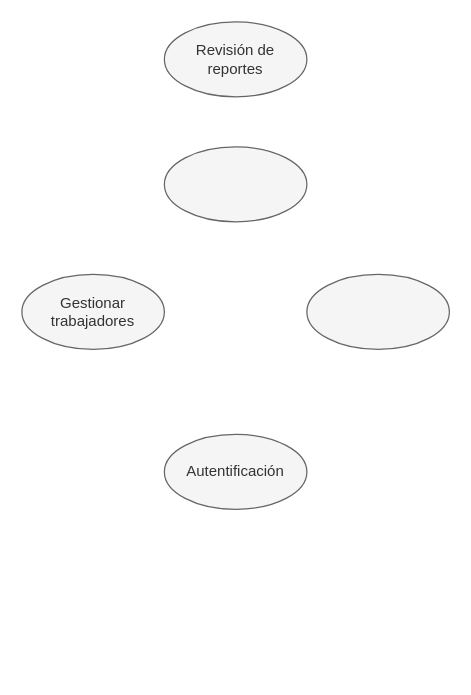
The diagram is 471 pixels wide and 695 high, and some of its shapes have lost their labels. The shapes that lost their labels are listed below. From the top down, each one's centre as x and y in pixels, then its label:
the point at 235,184: Generacion de informes
the point at 377,311: Gestionar encargados
